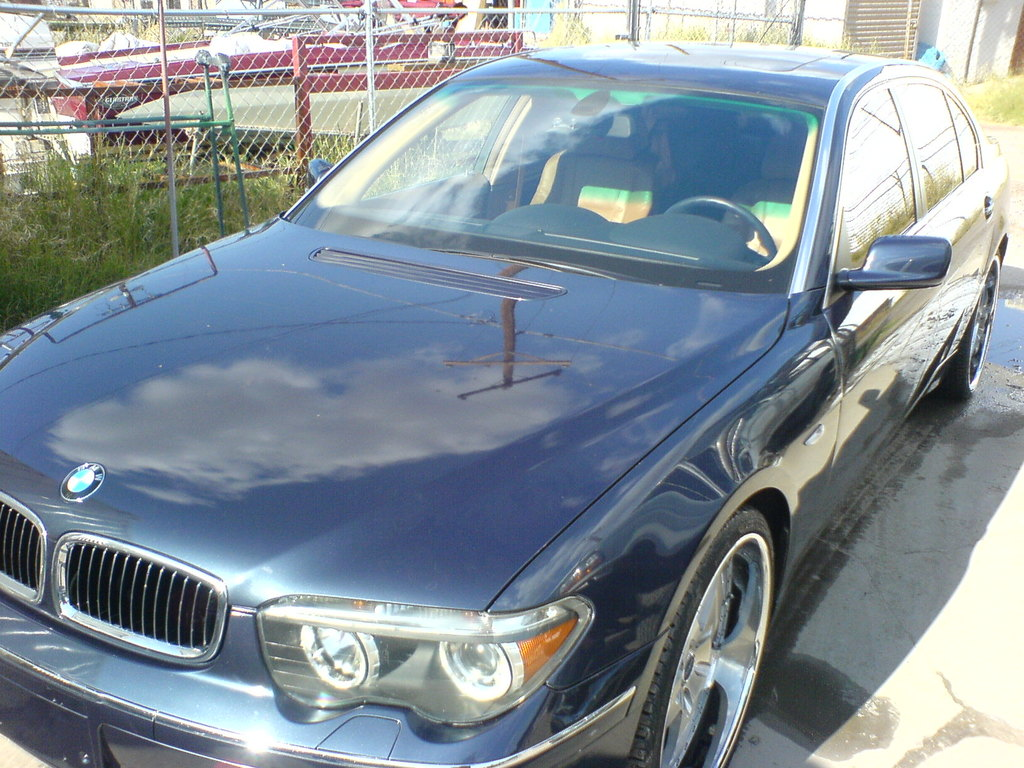car: (1, 27, 999, 768)
